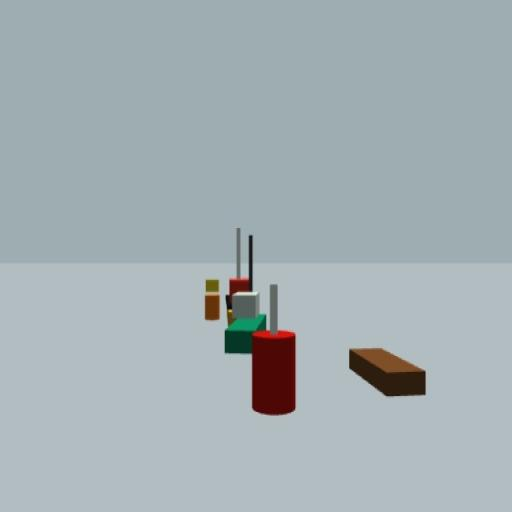buoy: (204, 277, 221, 322)
debris_container: (348, 344, 426, 398)
floating_obstacle: (253, 283, 298, 417)
